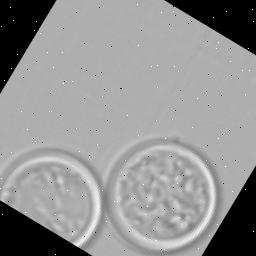picoshell: (103, 136, 220, 254), (0, 146, 103, 250)
